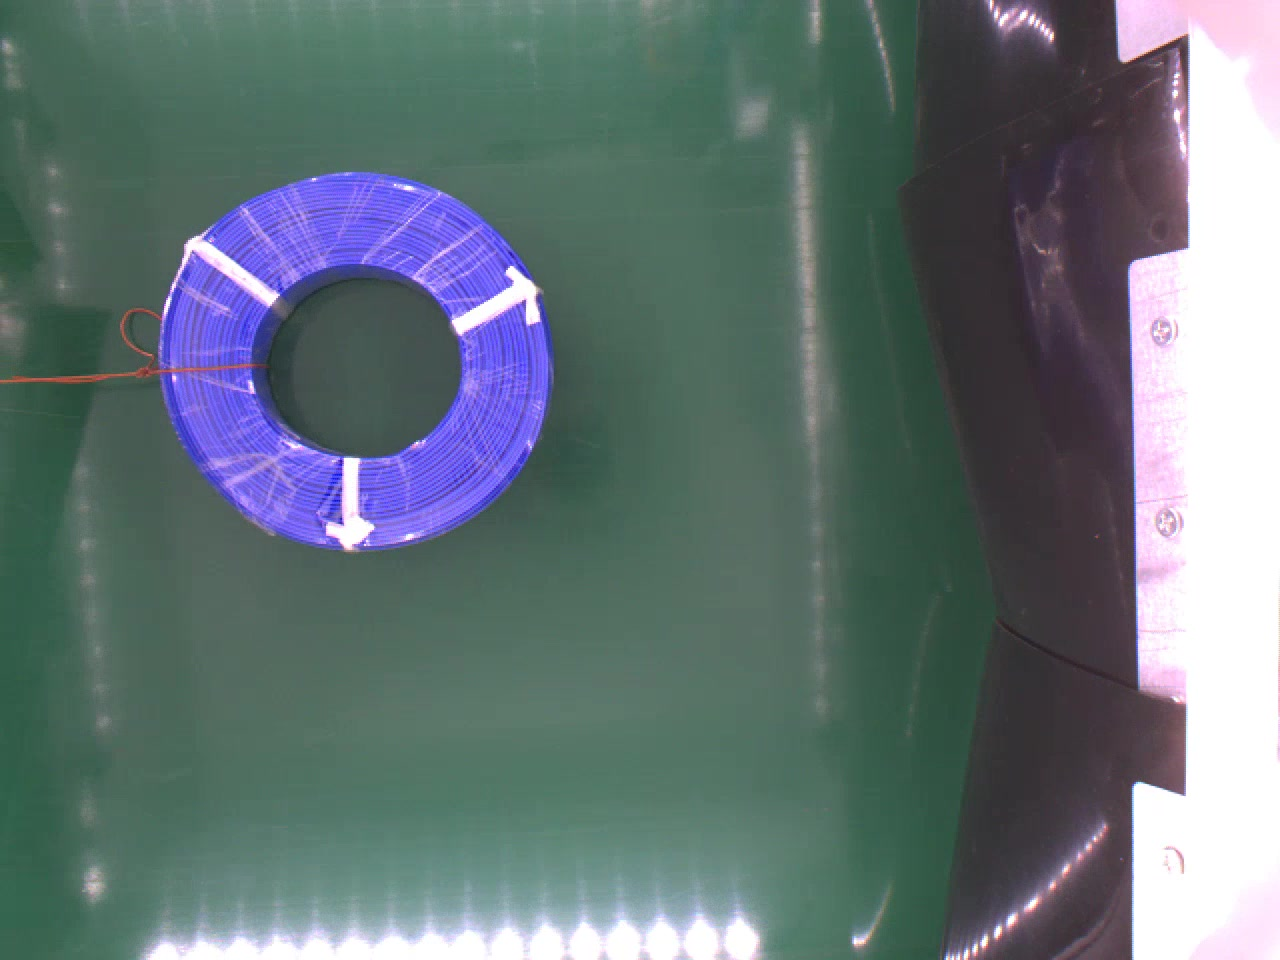blue: (157, 172, 549, 544)
